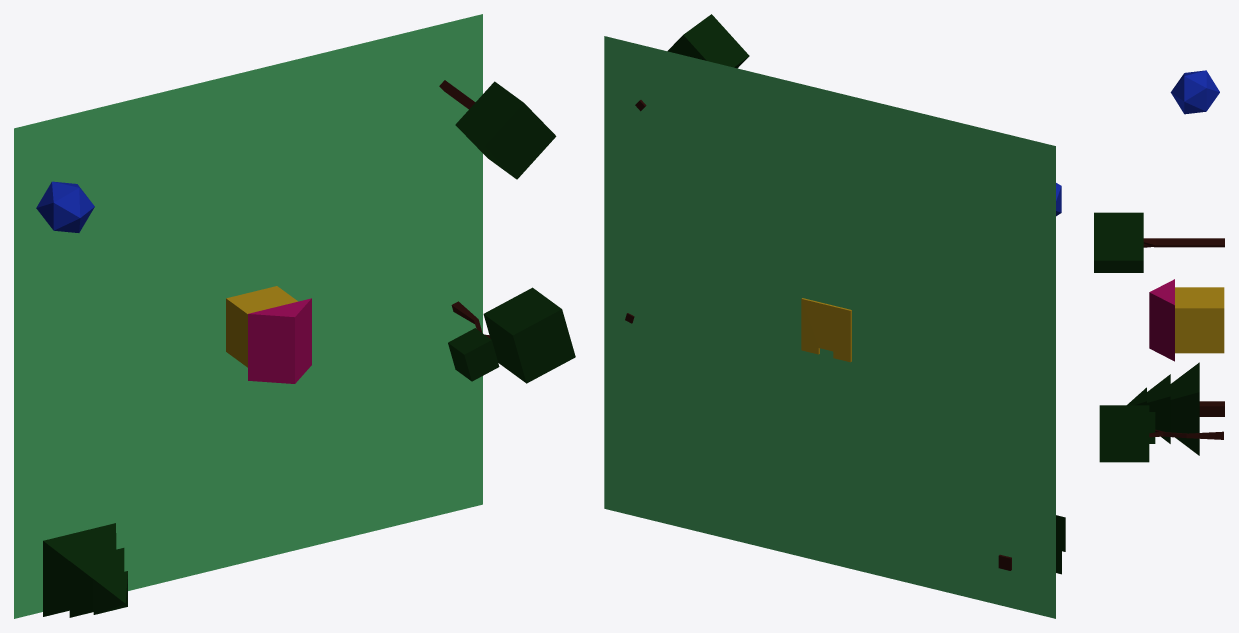
Rendered from sceneReal.obj.
The picture shows the model from 3 angles, left to right: view 1: azimuth 30°, elevation 25°; view 2: azimuth 150°, elevation 25°; view 3: azimuth 270°, elevation 25°; orthographic projection. The views are drawn at different scales.
Visible parts, largest first — view 1: Plane, Tree2, House, Tree3, Tree1_Tree1x, IcoSphere; view 2: Plane, House, Tree1_Tree1x, Tree3; view 3: House, Tree1_Tree1x, Tree3, Tree2, IcoSphere.
Boxes of the visible parts, x1=… form: Plane: x1=14, y1=14, x2=482, y2=618; Tree2: x1=448, y1=287, x2=575, y2=383; House: x1=226, y1=286, x2=311, y2=383; Tree3: x1=43, y1=523, x2=127, y2=617; Tree1_Tree1x: x1=439, y1=80, x2=556, y2=179; IcoSphere: x1=36, y1=181, x2=94, y2=232; Plane: x1=604, y1=36, x2=1055, y2=618; House: x1=801, y1=298, x2=851, y2=362; Tree1_Tree1x: x1=635, y1=14, x2=749, y2=111; Tree3: x1=998, y1=515, x2=1065, y2=574; House: x1=1149, y1=279, x2=1224, y2=361; Tree1_Tree1x: x1=1094, y1=212, x2=1224, y2=272; Tree3: x1=1127, y1=362, x2=1224, y2=455; Tree2: x1=1099, y1=405, x2=1223, y2=462; IcoSphere: x1=1170, y1=70, x2=1219, y2=114.
Bounding box in the file's own units: 19.14 × 18.36 × 5.28.
